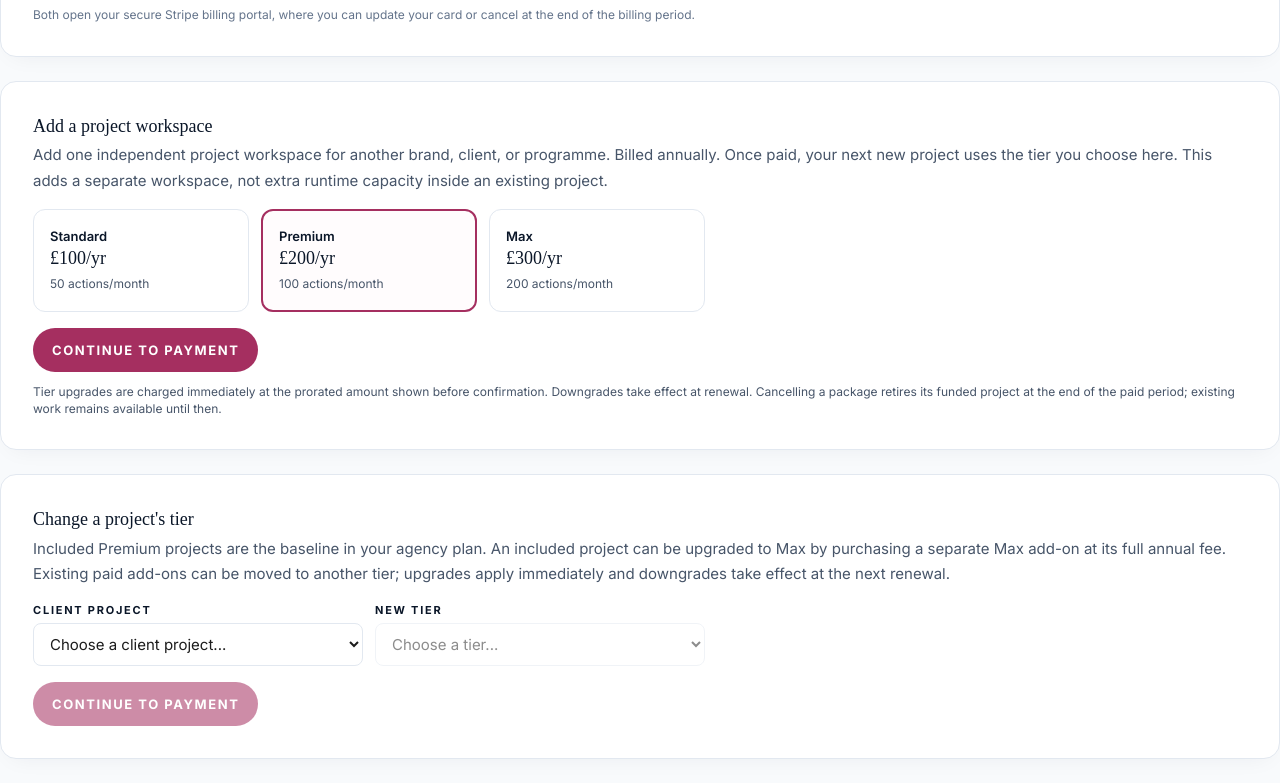
agency project tier controls › blocks confirmation and retries after a invalid response
(page scrolled)
Select "Paid client project - Premium" in the dropdown labelled "Client project". click: (198, 644)
box: [33,623,363,666]
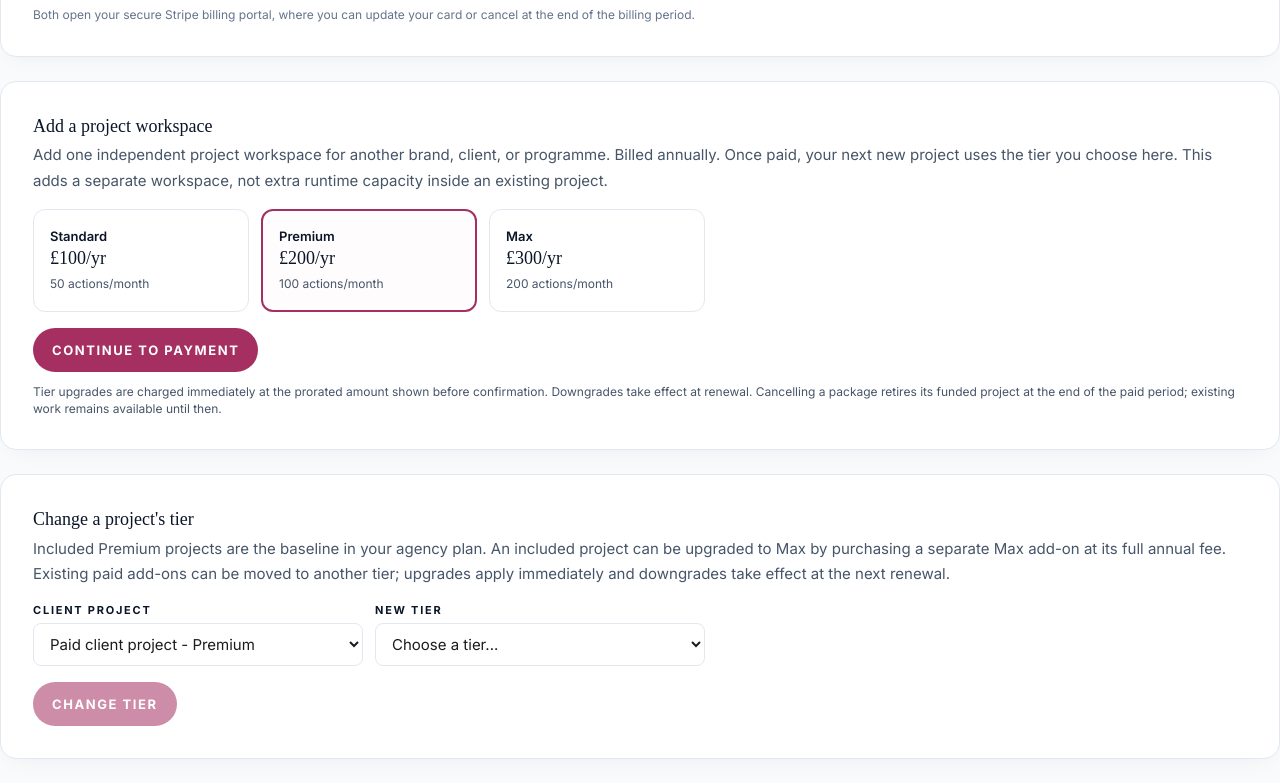
Select "Max - £300/yr, 200 actions/month" in the dropdown labelled "New tier". click: (540, 644)
box: [375,623,705,666]
(page scrolled)
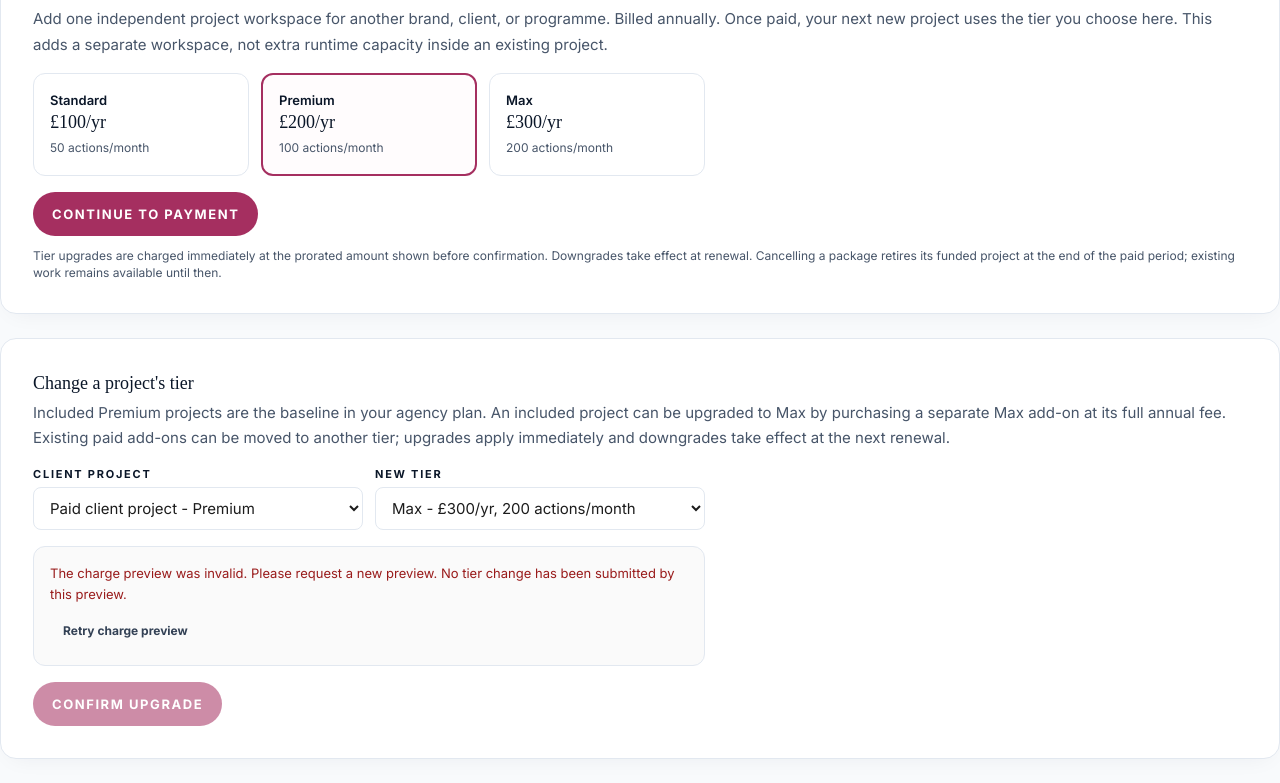
Expected: the button "Confirm upgrade" is disabled, [33,682,222,726]
Now the message shows "The charge preview was invalid.", box [50,565,437,581]
Click the button "Retry charge preview". click: (125, 631)
box: [50,613,201,649]
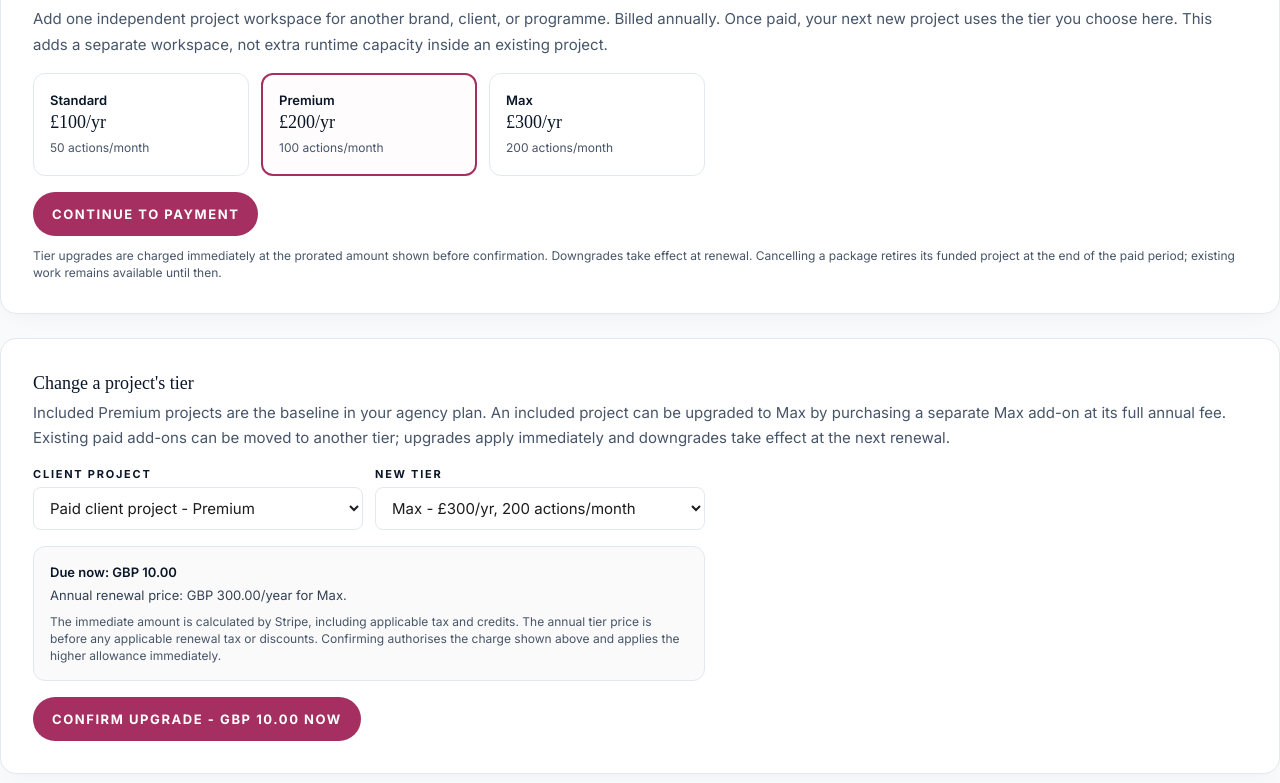
Now the button "Confirm upgrade - GBP 10.00 now" is enabled, box [33,697,361,741]
